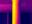Hotspot: (11, 0, 20, 23)
